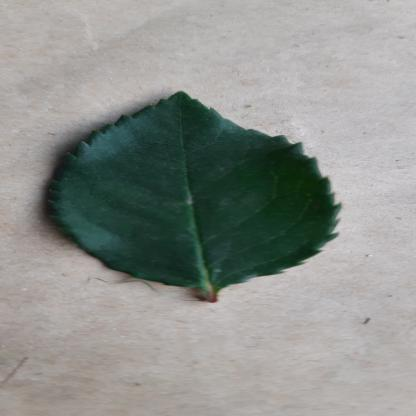normal: (40, 90, 346, 286)
